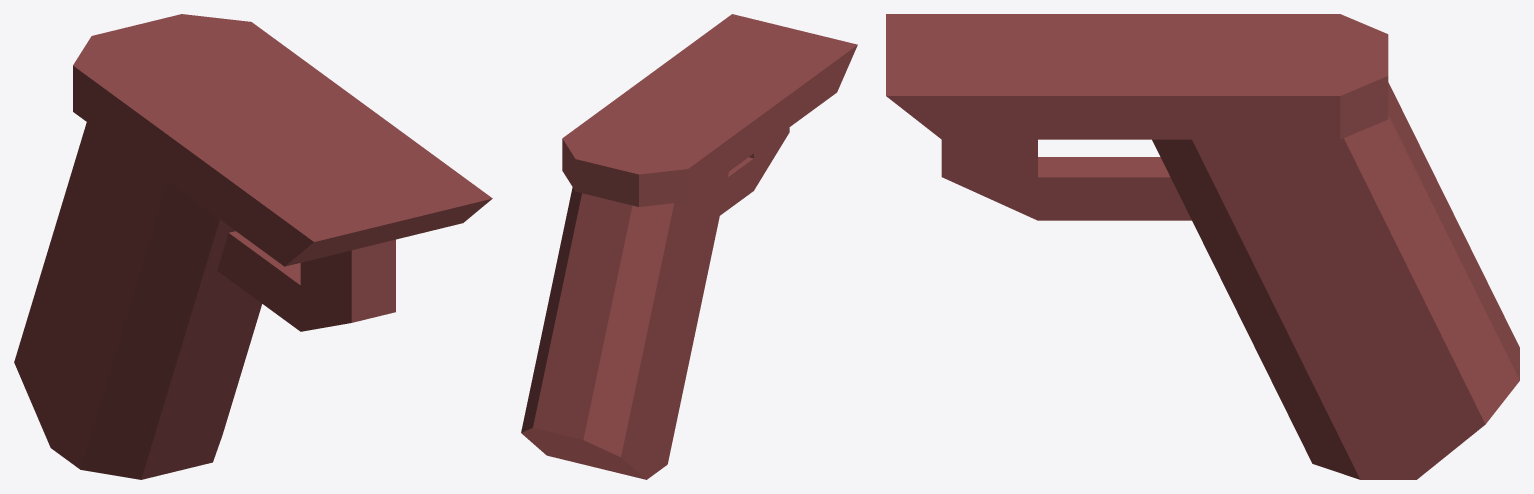
Rendered from WM0_Handle_LVL0.FBX.
3 views of the same model, side by side, from view 1: azimuth 30°, elevation 25°; view 2: azimuth 150°, elevation 25°; view 3: azimuth 270°, elevation 25° (orthographic). The views are drawn at different scales.
Parts seen in each view (by area): view 1: WM0_Handle_LVL0; view 2: WM0_Handle_LVL0; view 3: WM0_Handle_LVL0.
Boxes of the visible parts, <box> form: WM0_Handle_LVL0: <box>14,14,492,479</box>; WM0_Handle_LVL0: <box>521,14,857,479</box>; WM0_Handle_LVL0: <box>886,14,1519,479</box>.
Bounding box in the file's own units: 6.06 × 13.5 × 19.77.
